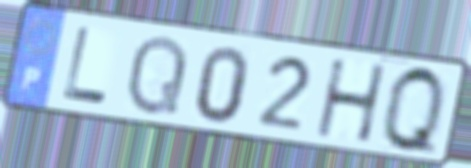0: (190, 42, 253, 127)
2: (254, 54, 316, 133)
H: (314, 57, 390, 146)
L: (60, 24, 111, 108)
Q: (381, 61, 448, 161), (123, 32, 191, 117)
